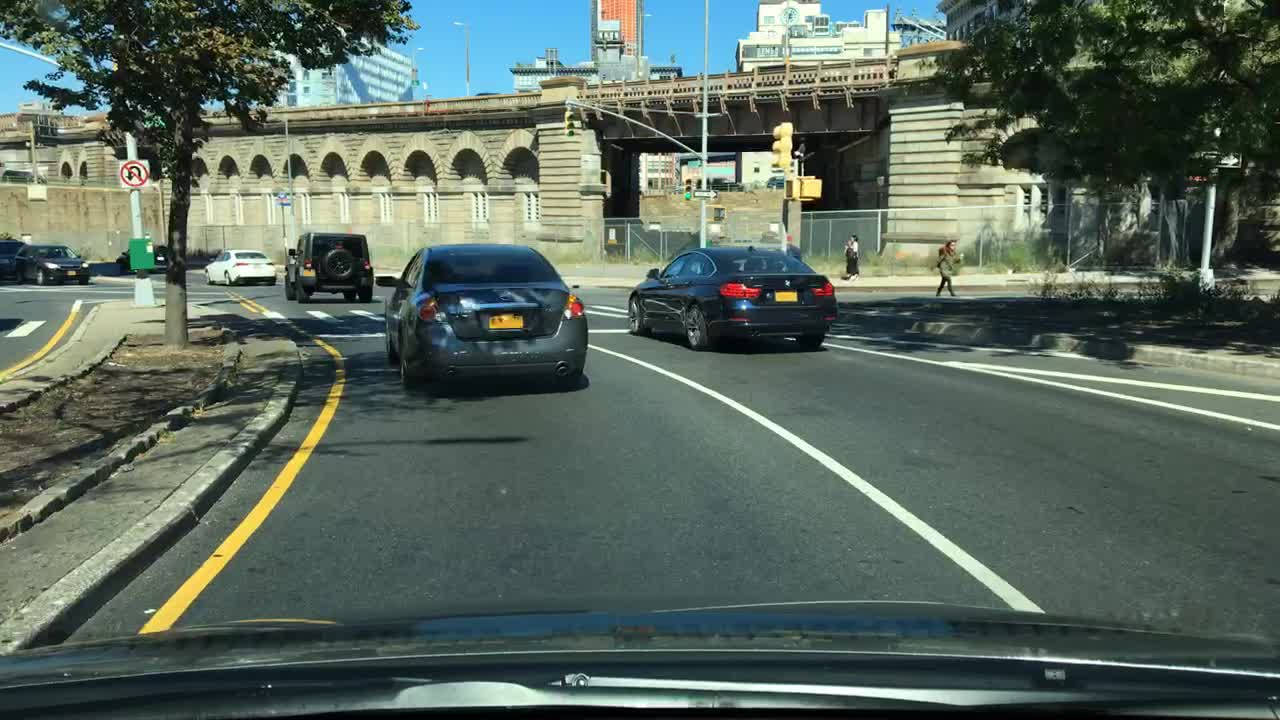car: (371, 242, 590, 395), (623, 243, 840, 355), (280, 229, 376, 304), (8, 243, 93, 289), (203, 247, 280, 289), (114, 242, 168, 278), (0, 238, 29, 283)
person: (929, 236, 967, 297), (840, 229, 862, 285), (784, 235, 801, 262)
traffic light: (770, 119, 791, 172), (796, 172, 824, 203), (1181, 161, 1203, 189), (562, 109, 577, 138), (681, 177, 695, 207), (710, 201, 728, 222)
traffic sign: (1184, 147, 1245, 172), (116, 156, 154, 193), (25, 180, 50, 205), (703, 161, 735, 175), (688, 187, 719, 200), (681, 156, 696, 168)
